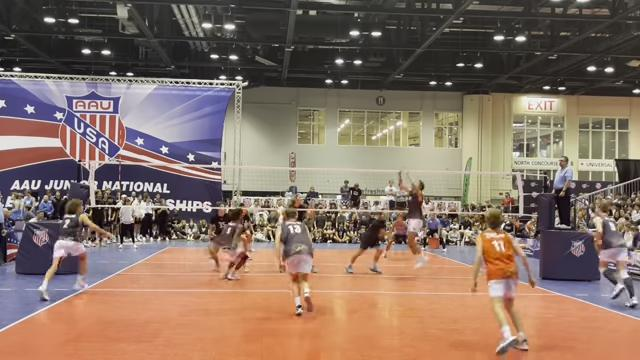alzata: (391, 166, 432, 277)
